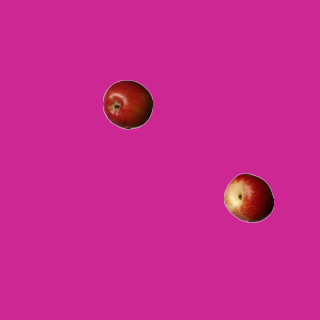Apple Braeburn: (102, 79, 152, 129)
Nectarine: (223, 172, 273, 222)
